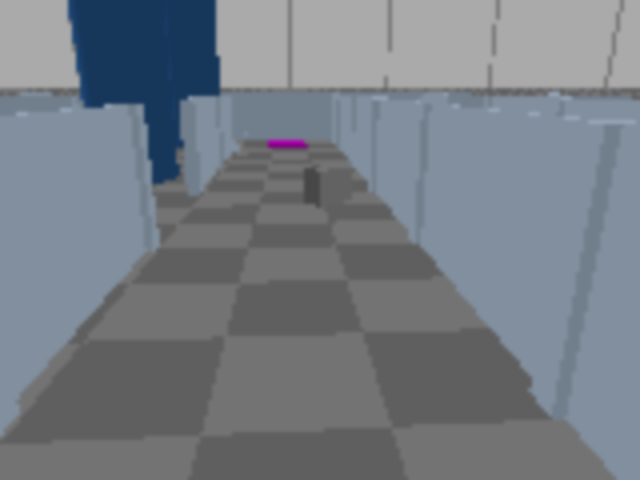obstacle: (305, 163, 353, 207)
